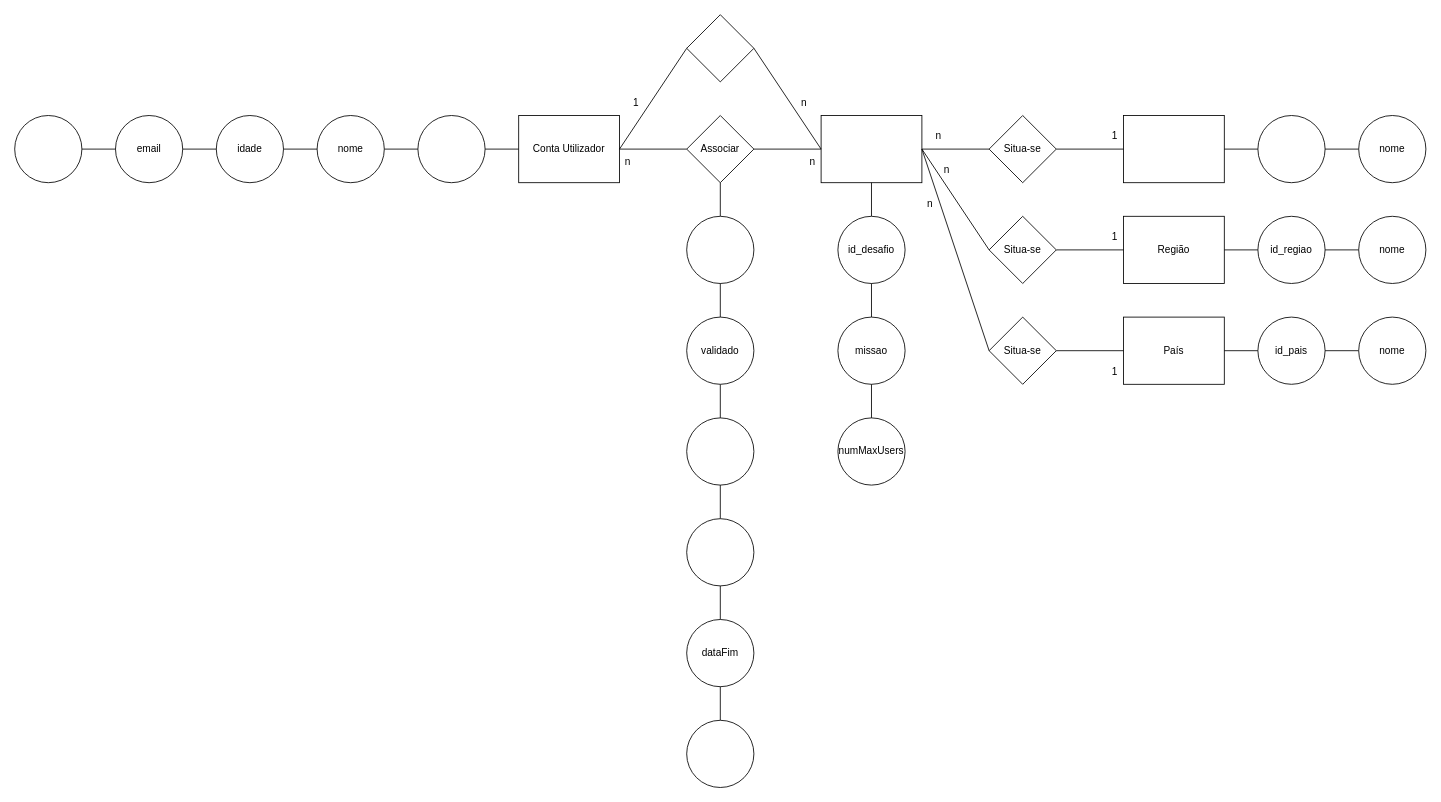
Some shapes in this 1441 by 802 pixel diagram are drawn without their labels. Each missing label, with the centre of its shape:
Criar: (720,48)
dataInicio: (720,451)
Desafio: (871,149)
horaFim: (720,753)
horaInicio: (720,552)
id_localidade: (1291,149)
id_user: (451,149)
Localidade: (1173,149)
sucesso: (720,249)
telefone: (48,149)
